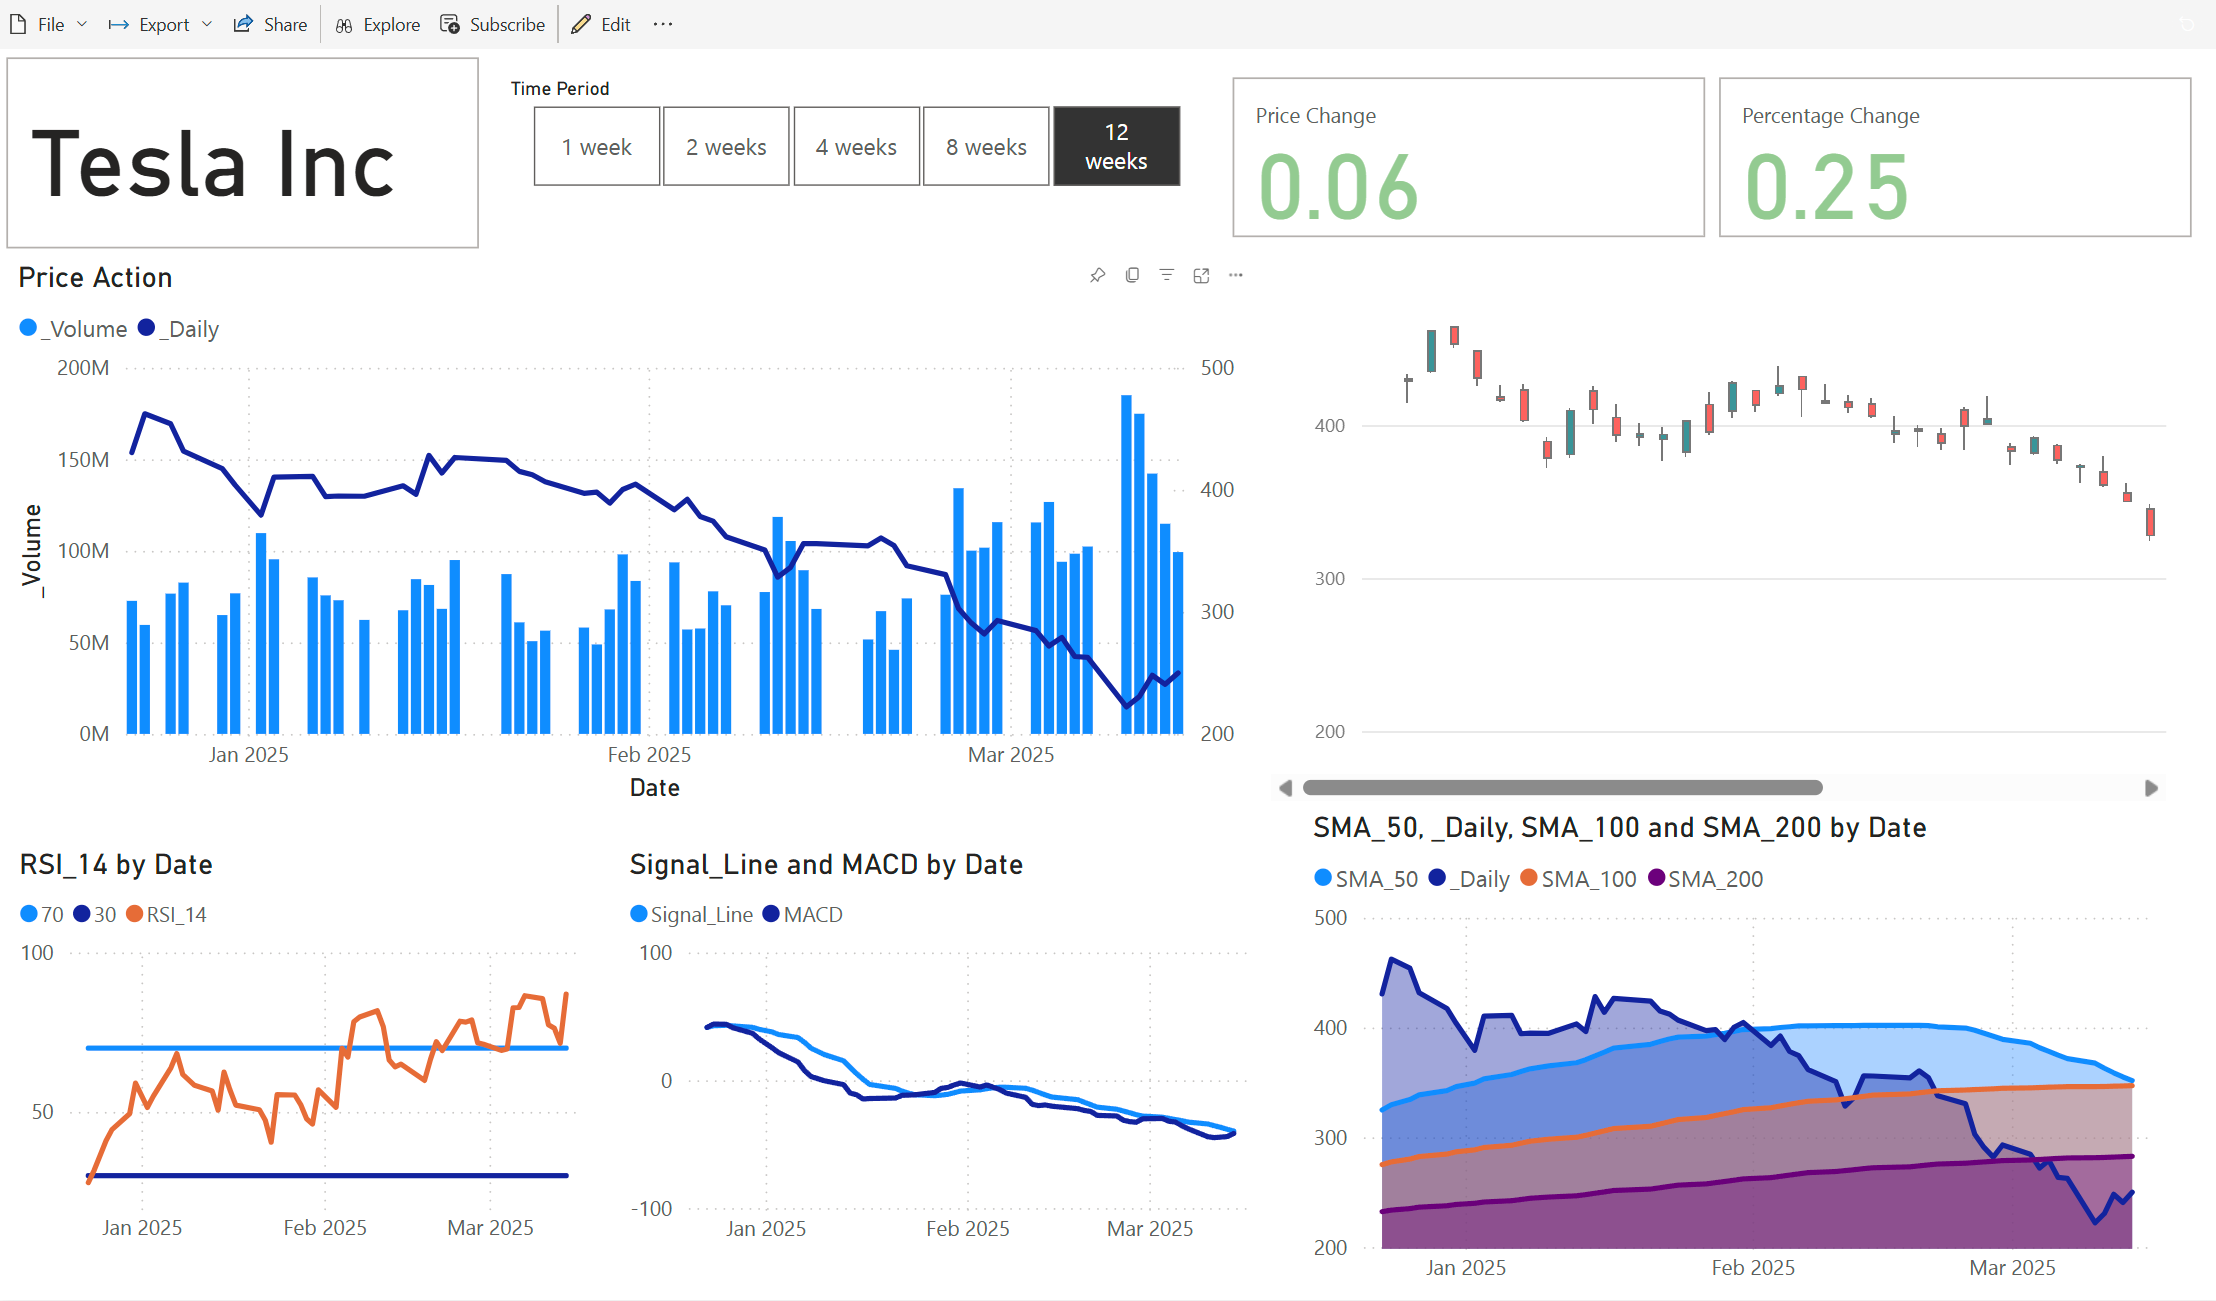

Layout of this report page (visuals, bound fields, positions):
{"tool":"powerbi","page":{"name":"StockScreener","canvas":[1280,720],"ordinal":0},"visuals":[{"type":"cardVisual","fields":{"Data":["Min(Overview.Value)"]},"box":[0,0,282.2,120.6],"z":0},{"type":"slicer","fields":{"Values":["TimePeriod.Time Period"]},"box":[282.1,11.7,422.1,73.9],"z":1000},{"type":"lineStackedColumnComboChart","title":"Price Action","fields":{"Category":["StockScreener.Date"],"Y":["_Measures.Volume_byswitch"],"Y2":["_Measures.Daily_byswitch"]},"box":[6.8,120.6,714.9,317.1],"z":2000},{"type":"areaChart","fields":{"Category":["StockScreener.Date"],"Y":["_Measures.SMA_50","_Measures._Daily_byswitch","_Measures.SMA_100","_Measures.SMA_200"]},"box":[751.9,437.7,507.7,282.1],"z":3000},{"type":"lineChart","fields":{"Category":["StockScreener.Date"],"Y":["_Measures.Signal_Line","_Measures.MACD"]},"box":[357.9,459.1,384.2,238.3],"z":4000},{"type":"PBI_CV_886A053E_9DFD_4EA0_A47D_CCAEB89AF969","fields":{"close":["Candlestick.Close"],"open":["Candlestick._Open"],"high":["Candlestick._High"],"low":["Candlestick._Low"],"Category":["StockScreener.Date"]},"box":[721.7,120.6,537.9,317.1],"z":5000},{"type":"lineChart","title":"RSI_14 by Date","fields":{"Y":["_Measures.70","_Measures.30","_Measures.RSI_14"],"Category":["StockScreener.Date"]},"box":[7,459,351,238],"z":6000},{"type":"cardVisual","fields":{"Data":["_Measures.Price Change","_Measures.Percentage Change"]},"box":[706.1,11.5,563.5,102.8],"z":7000}]}

Visuals, with their boxes on the page's 1280x720 design canvas (x1, y1, x2, y2). These are canvas units, not pixel positions in the 2216x1301 screenshot, which may show the page scaled, cropped or inside an application window:
cardVisual - Min(Overview.Value): <region>0, 0, 282, 121</region>
slicer - TimePeriod.Time Period: <region>282, 12, 704, 86</region>
"Price Action" lineStackedColumnComboChart: <region>7, 121, 722, 438</region>
areaChart - StockScreener.Date x _Measures.SMA_50: <region>752, 438, 1260, 720</region>
lineChart - StockScreener.Date x _Measures.Signal_Line: <region>358, 459, 742, 697</region>
PBI_CV_886A053E_9DFD_4EA0_A47D_CCAEB89AF969 - Candlestick.Close x Candlestick._Open: <region>722, 121, 1260, 438</region>
"RSI_14 by Date" lineChart: <region>7, 459, 358, 697</region>
cardVisual - _Measures.Price Change x _Measures.Percentage Change: <region>706, 12, 1270, 114</region>
